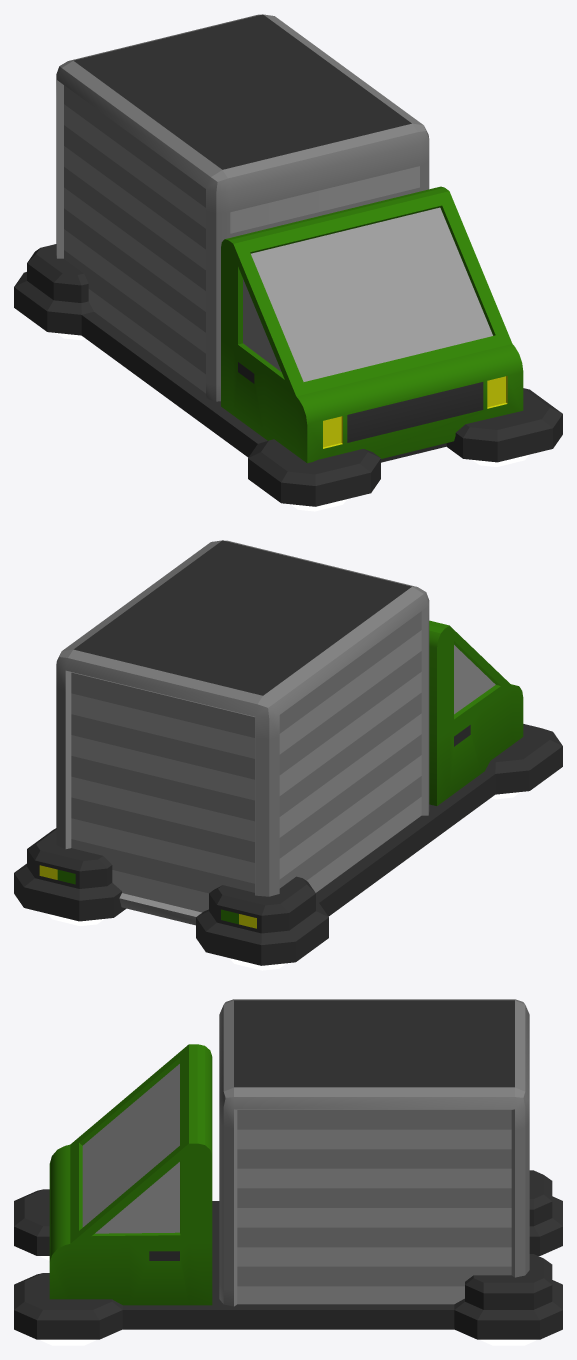
Rendered from MOBIL_NPC_PAKET_2.fbx.
The picture shows the model from 3 angles, top to bottom: view 1: azimuth 30°, elevation 25°; view 2: azimuth 150°, elevation 25°; view 3: azimuth 270°, elevation 25°; orthographic projection. The views are drawn at different scales.
Parts seen in each view (by area): view 1: MOBIL_NPC_PAKET_2; view 2: MOBIL_NPC_PAKET_2; view 3: MOBIL_NPC_PAKET_2.
Part boxes in pixels (x1=…): MOBIL_NPC_PAKET_2: x1=14, y1=14, x2=562, y2=511; MOBIL_NPC_PAKET_2: x1=14, y1=540, x2=562, y2=970; MOBIL_NPC_PAKET_2: x1=14, y1=999, x2=562, y2=1345.
Bounding box in the file's own units: 195 × 175 × 350.
